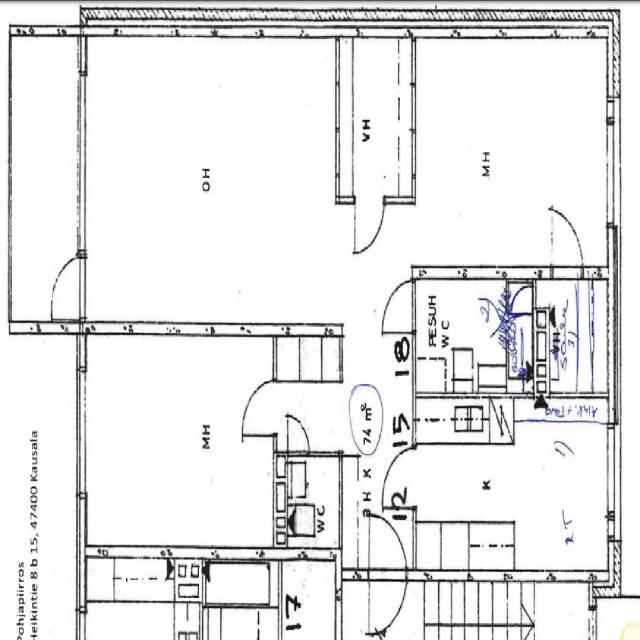door: (368, 506, 406, 580), (368, 569, 406, 640), (44, 257, 87, 317), (378, 448, 417, 507), (240, 380, 277, 436), (381, 282, 416, 334), (354, 197, 384, 253), (288, 413, 310, 457), (512, 281, 536, 313)
